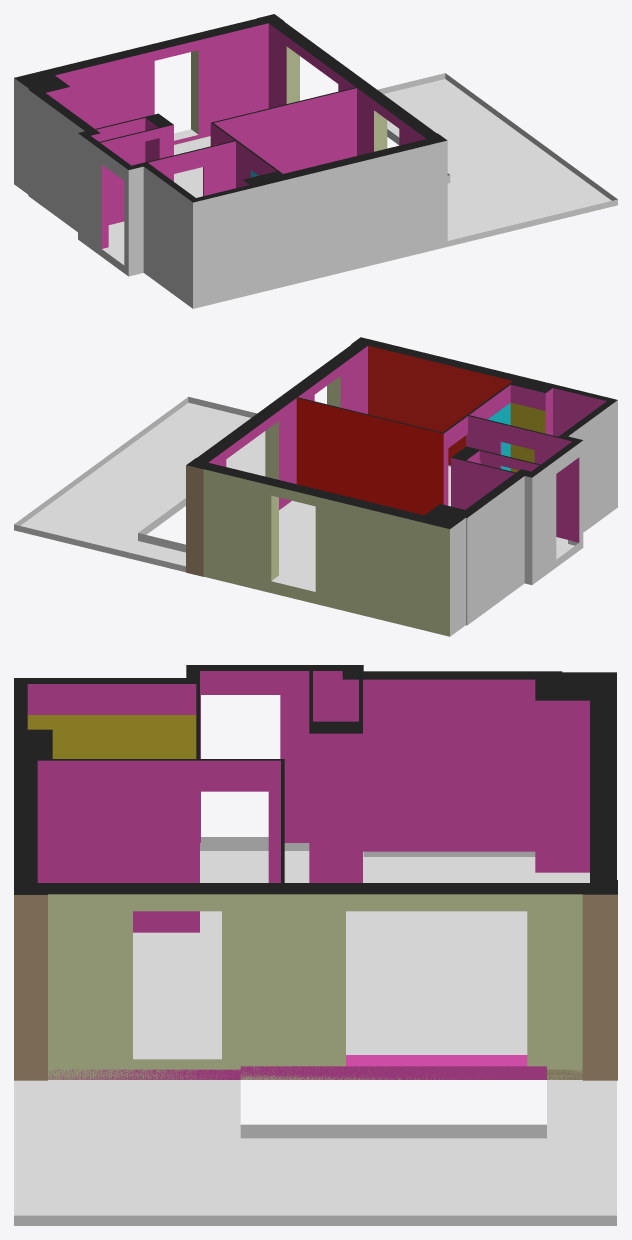
Rendered from masonry_01.fbx.
3 views of the same model, one above another, from view 1: azimuth 30°, elevation 25°; view 2: azimuth 150°, elevation 25°; view 3: azimuth 270°, elevation 25° (orthographic). The views are drawn at different scales.
Visible parts, largest first — view 1: masonry_01; view 2: masonry_01; view 3: masonry_01.
Part boxes in pixels (left/top/right/bottom): masonry_01: left=14, top=14, right=617, bottom=308; masonry_01: left=14, top=337, right=617, bottom=636; masonry_01: left=14, top=665, right=617, bottom=1225.
Size of the model in its own units: 11.69 by 2.7 by 7.96.
